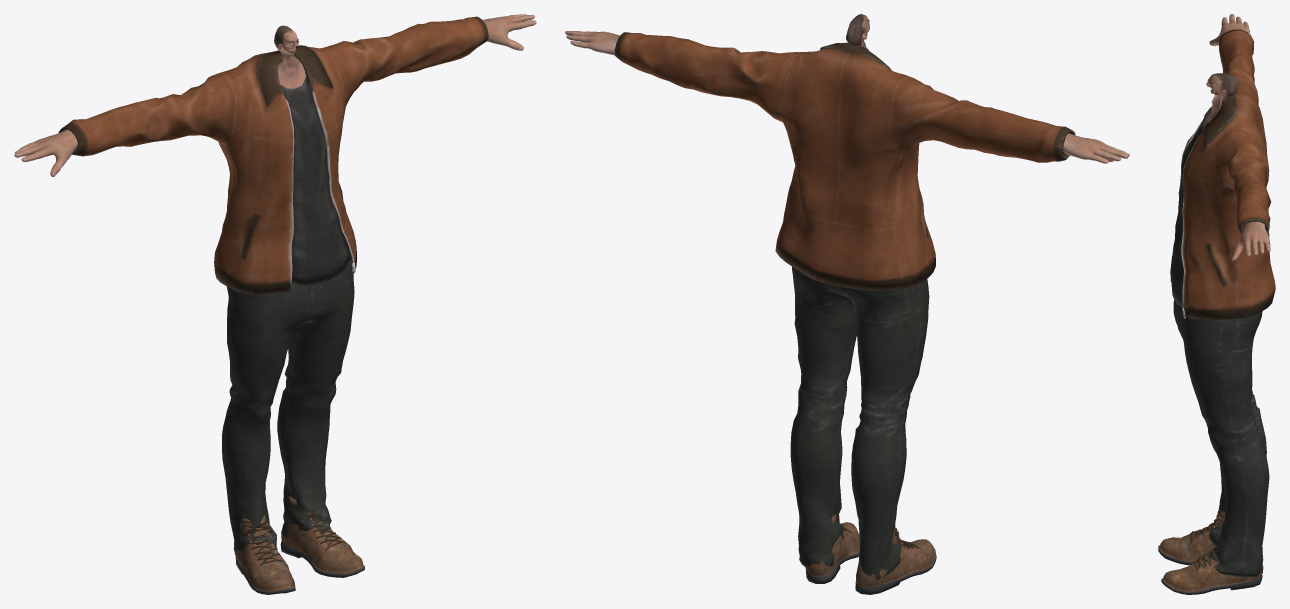
Rendered from Player 1.obj.
The picture shows the model from 3 angles, left to right: view 1: azimuth 30°, elevation 25°; view 2: azimuth 150°, elevation 25°; view 3: azimuth 270°, elevation 25°; orthographic projection. The views are drawn at different scales.
Visible parts, largest first — view 1: Tops, Bottoms, Shoes, Body; view 2: Tops, Bottoms, Shoes, Body; view 3: Tops, Bottoms, Shoes, Body.
Part boxes in pixels (x1,y1,x2,y2): Tops: (58,16,488,294); Bottoms: (222,262,354,553); Shoes: (234,496,364,594); Body: (14,14,536,176); Tops: (614,32,1075,290); Bottoms: (790,266,929,580); Shoes: (805,515,936,594); Body: (565,14,1129,163); Tops: (1170,29,1275,319); Bottoms: (1173,300,1269,576); Shoes: (1158,510,1263,594); Body: (1206,14,1270,261).
Size of the model in its own units: 174 by 168 by 35.86.
Materials: 1 (1 with a texture image).
